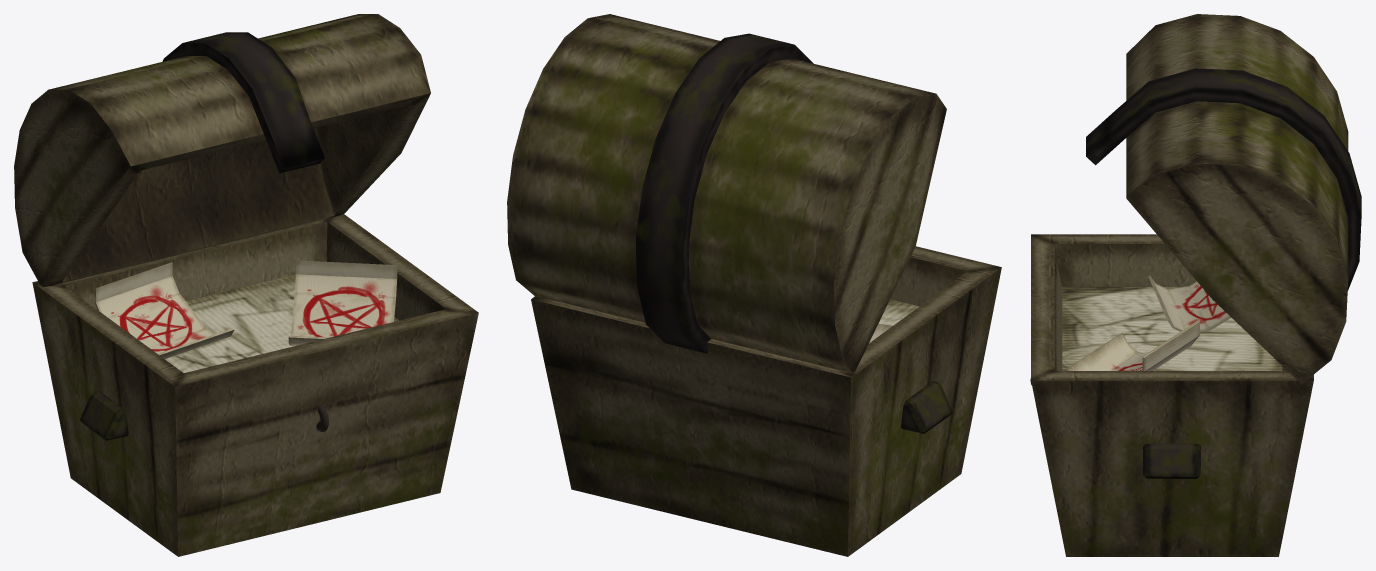
Rendered from 4-5_Frukt.fbx.
3 views of the same model, side by side, from view 1: azimuth 30°, elevation 25°; view 2: azimuth 150°, elevation 25°; view 3: azimuth 270°, elevation 25° (orthographic). The views are drawn at different scales.
Visible parts, largest first — view 1: pCylinder3; view 2: pCylinder3; view 3: pCylinder3.
Boxes of the visible parts, box(x1,y1,x2,y2) form: pCylinder3: box(14, 14, 478, 556); pCylinder3: box(507, 14, 1001, 556); pCylinder3: box(1030, 14, 1361, 556).
Size of the model in its own units: 36.49 by 44.64 by 32.05.
Materials: 2 (2 with a texture image).
